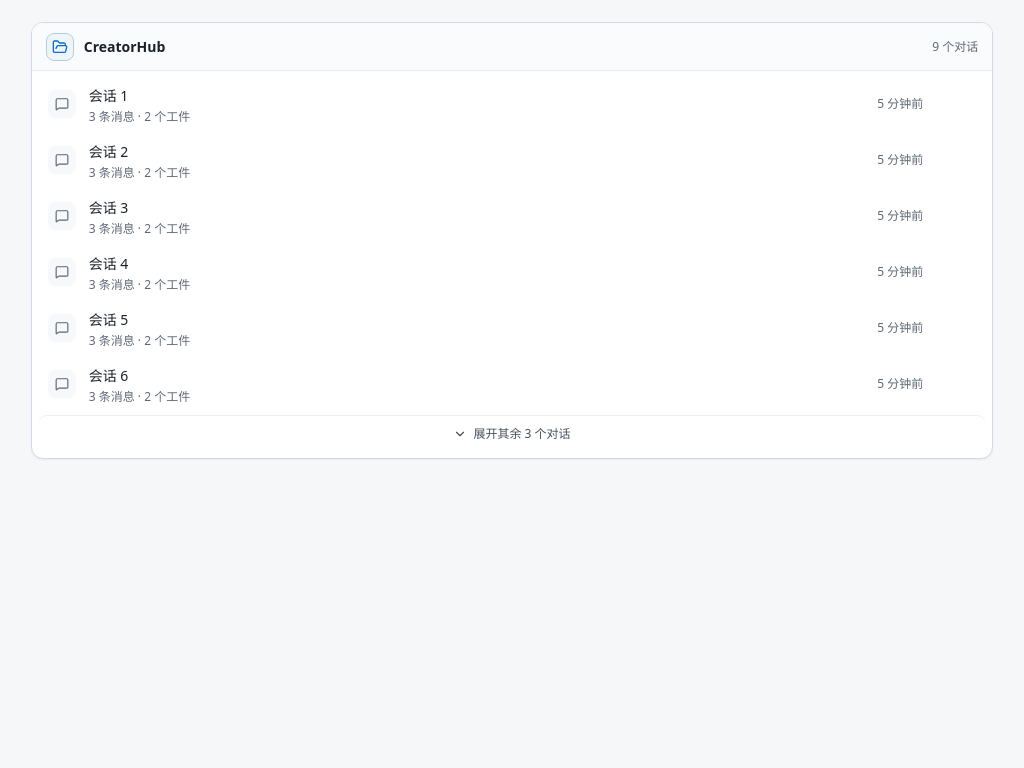
Test: ConversationHistoryPanel › shows a bounded project group and expands the remaining conversations
The image size is (1024, 768).
Expected: the text "会话 6" is shown, [89,366,128,384]
Expected: the text "会话 7" is not shown
Click the button "展开其余 3 个对话": [512, 433] box [39,415,985,451]
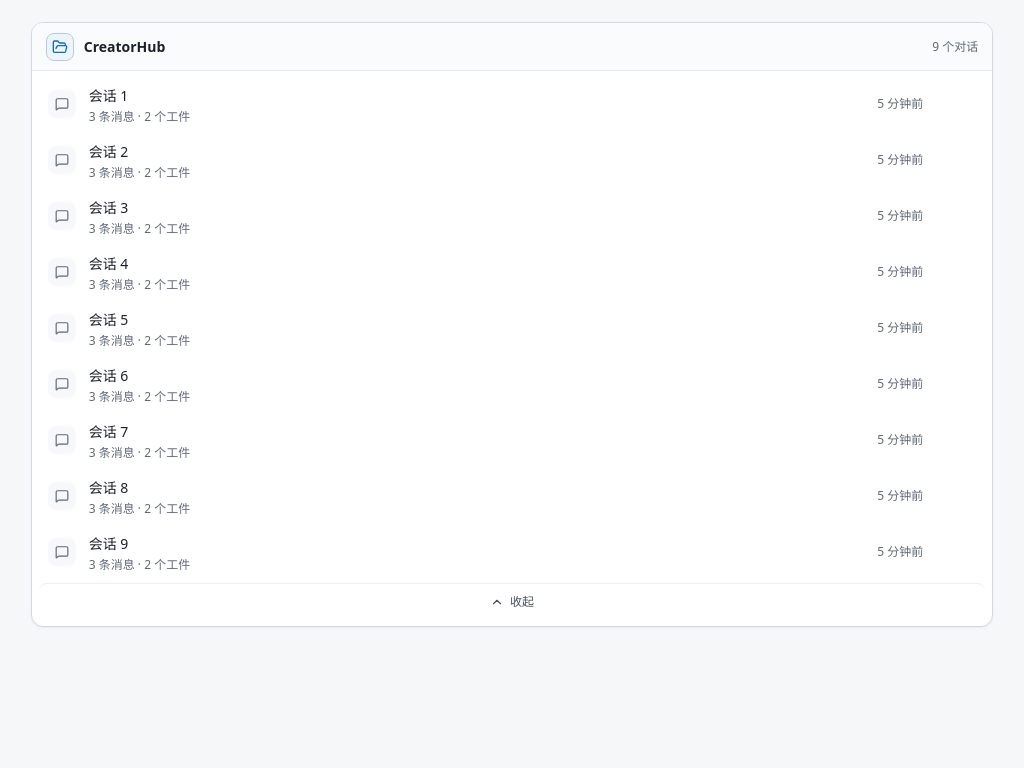
Result: the text "会话 9" is shown at [89,534,128,552]
Result: the button "收起" is expanded at [39,583,985,619]
